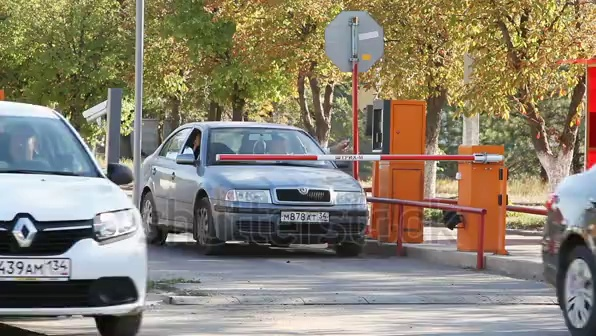licenseplate: (1, 250, 72, 283), (279, 208, 336, 224)
